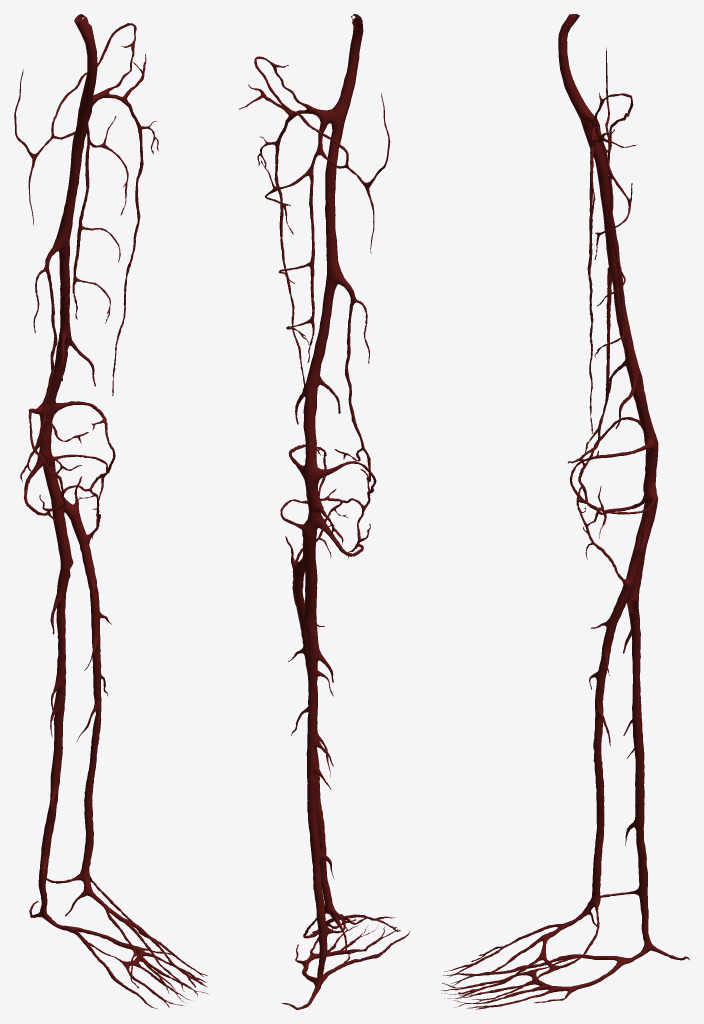
File: Arteries_Iliaca_communis.001.obj
The picture shows the model from 3 angles, left to right: view 1: azimuth 30°, elevation 25°; view 2: azimuth 150°, elevation 25°; view 3: azimuth 270°, elevation 25°; orthographic projection.
Visible parts, largest first — view 1: Arteries_Iliaca_communis.001_Arteries_lower.000; view 2: Arteries_Iliaca_communis.001_Arteries_lower.000; view 3: Arteries_Iliaca_communis.001_Arteries_lower.000.
Boxes of the visible parts, x1,y1,x2,y2 form: Arteries_Iliaca_communis.001_Arteries_lower.000: [14, 14, 208, 1009]; Arteries_Iliaca_communis.001_Arteries_lower.000: [239, 14, 409, 1009]; Arteries_Iliaca_communis.001_Arteries_lower.000: [441, 14, 689, 1009].
Bounding box in the file's own units: 0.7778 × 5.17 × 1.22.
